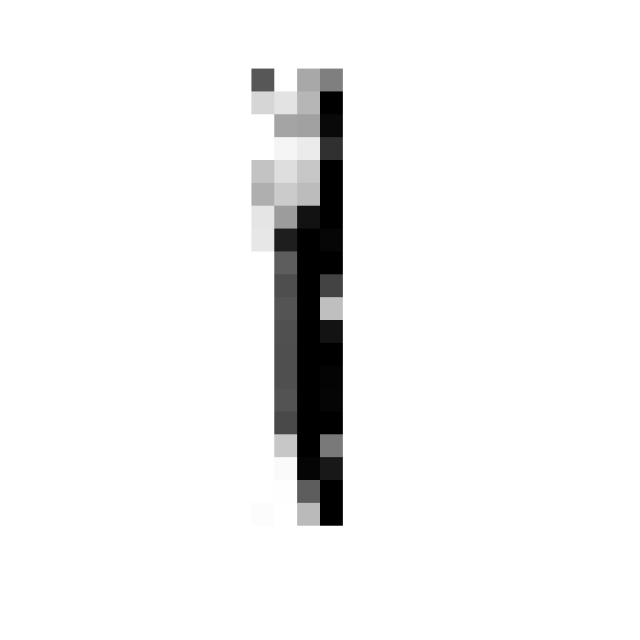1 -one-: (236, 39, 374, 545)
